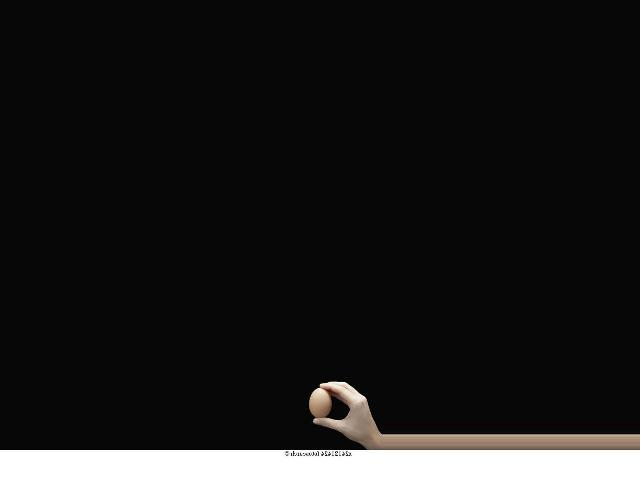egg: (308, 387, 331, 418)
